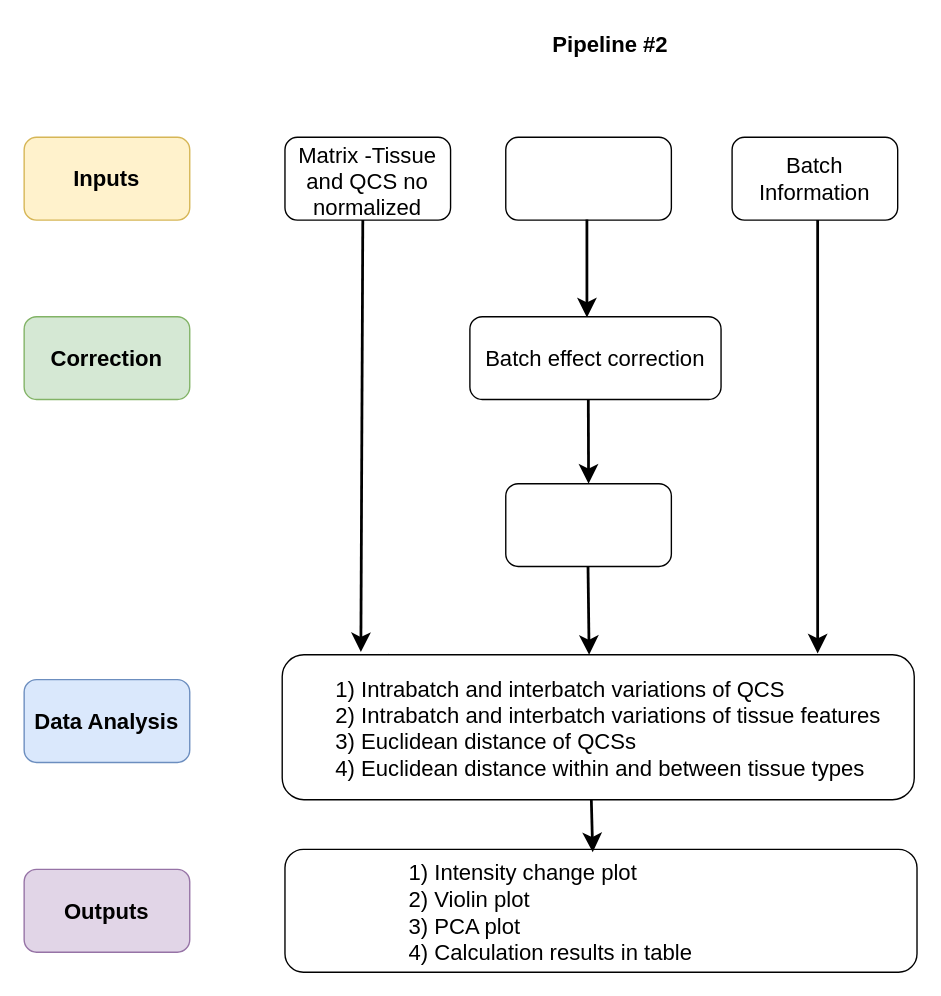
Image size: 941x996. Some labels were removed from this diagram. Here are the shapes that lost their labels. From the top down, the box of each, then its label:
(504, 136, 671, 220): Matrix -Tissue and QCS TIC normalized
(504, 482, 671, 566): Matrix - Tissue and QCS corrected
